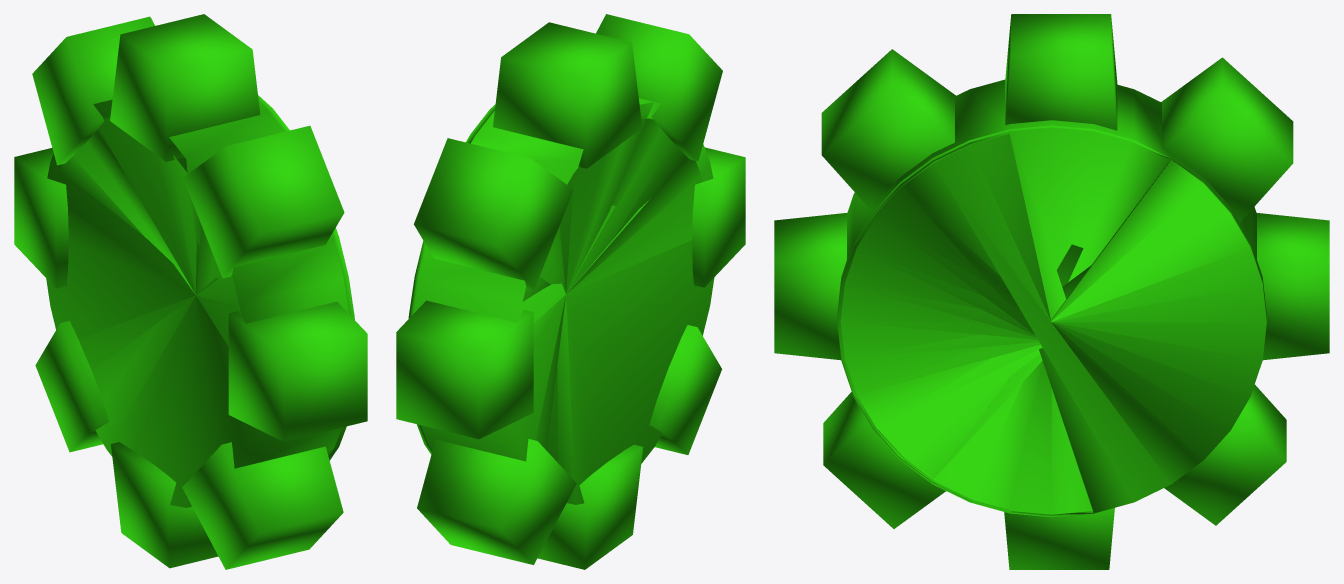
The model's file is gear.fbx.
The picture shows the model from 3 angles, left to right: view 1: azimuth 30°, elevation 25°; view 2: azimuth 150°, elevation 25°; view 3: azimuth 270°, elevation 25°; orthographic projection. The views are drawn at different scales.
Parts seen in each view (by area): view 1: Circle, Cube.001, Cube.003, Cube.002, Cube.004, Cube.005, Cube.006, Cube.000, Cube.007; view 2: Circle, Cube.000, Cube.005, Cube.002, Cube.007, Cube.003, Cube.006, Cube.001, Cube.004; view 3: Circle, Cube.003, Cube.005, Cube.002, Cube.001, Cube.000, Cube.007, Cube.004, Cube.006.
Part boxes in pixels (bbox=[...]): Circle: bbox=[46, 95, 354, 507]; Cube.001: bbox=[228, 301, 367, 441]; Cube.003: bbox=[183, 125, 344, 278]; Cube.002: bbox=[110, 14, 260, 161]; Cube.004: bbox=[182, 442, 343, 569]; Cube.005: bbox=[32, 16, 154, 165]; Cube.006: bbox=[111, 442, 218, 568]; Cube.000: bbox=[14, 148, 68, 288]; Cube.007: bbox=[35, 321, 108, 452]; Circle: bbox=[408, 98, 714, 504]; Cube.000: bbox=[396, 300, 533, 439]; Cube.005: bbox=[414, 138, 573, 289]; Cube.002: bbox=[493, 22, 642, 168]; Cube.007: bbox=[417, 439, 576, 564]; Cube.003: bbox=[596, 14, 722, 161]; Cube.006: bbox=[538, 444, 643, 569]; Cube.001: bbox=[692, 147, 745, 287]; Cube.004: bbox=[649, 325, 721, 454]; Circle: bbox=[837, 79, 1266, 517]; Cube.003: bbox=[821, 49, 955, 209]; Cube.005: bbox=[1161, 57, 1293, 222]; Cube.002: bbox=[1005, 14, 1117, 130]; Cube.001: bbox=[774, 213, 847, 360]; Cube.000: bbox=[1256, 213, 1329, 360]; Cube.007: bbox=[1164, 384, 1286, 525]; Cube.004: bbox=[823, 392, 945, 528]; Cube.006: bbox=[1004, 508, 1114, 569].
Size of the model in its own units: 67.61 by 292 by 286.
